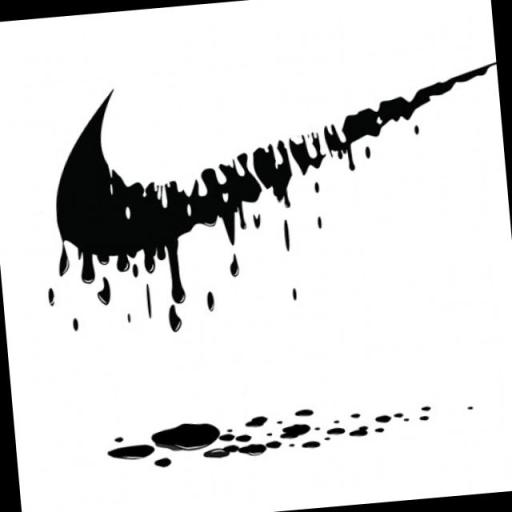Nike: (40, 56, 510, 263)
